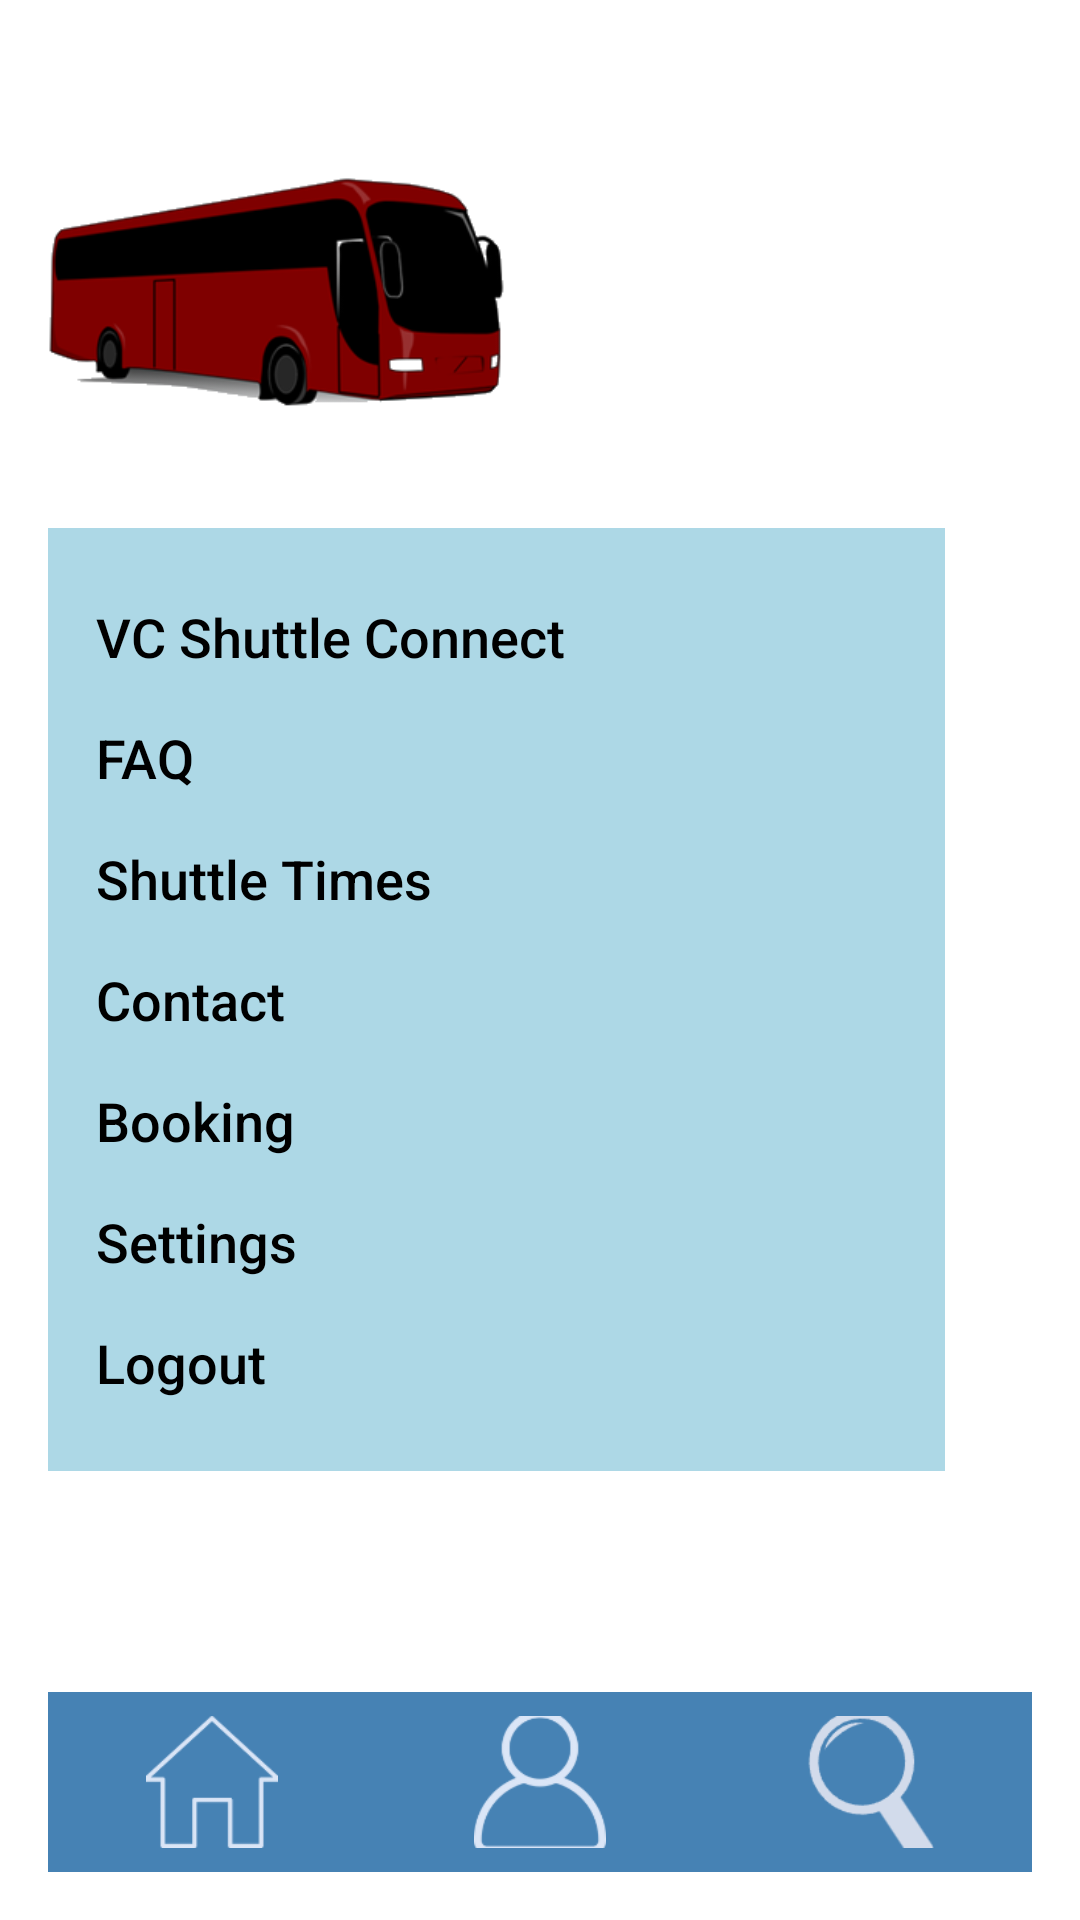

Point at icon controls on the screen. Image size 1080 × 1920, points as (x=x, y=y).
Home Icon: (x=212, y=1782)
Profile Icon: (x=540, y=1782)
Search Icon: (x=868, y=1782)
